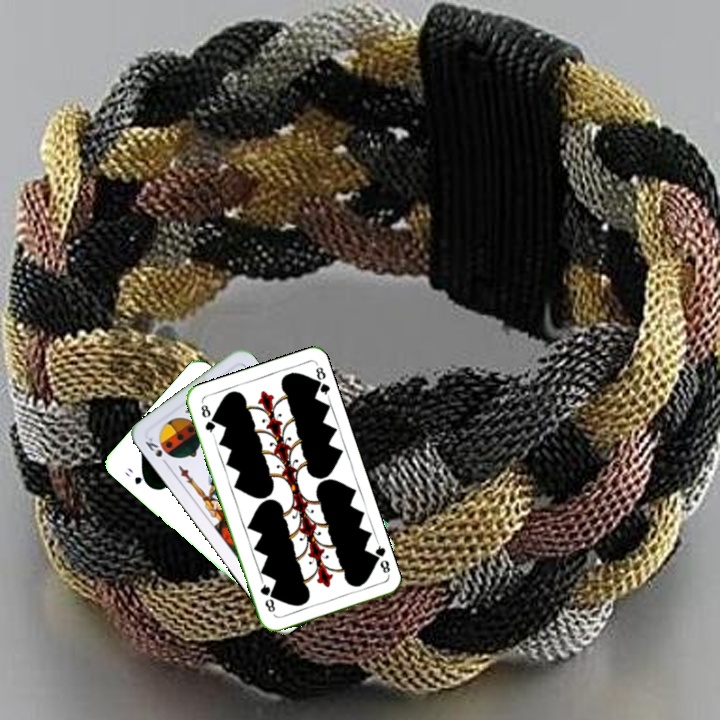G8: (367, 539, 393, 579), (197, 400, 218, 438)
GO: (121, 464, 153, 490)
SK: (141, 433, 171, 469)
